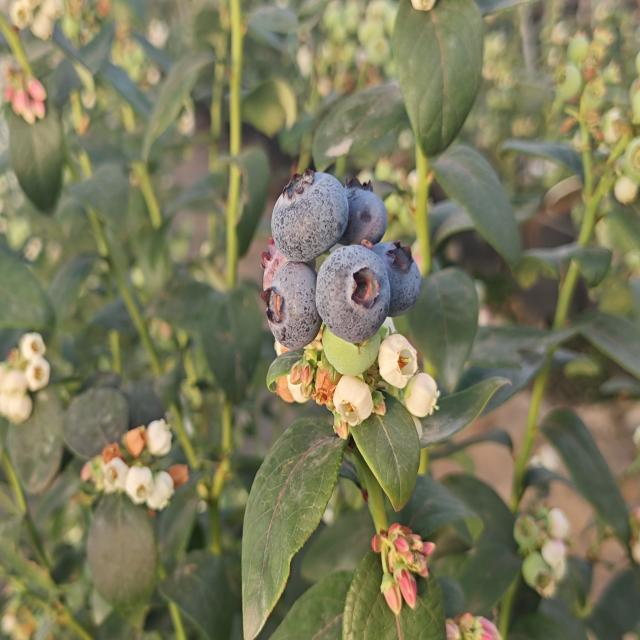ripe: (302, 237, 384, 347), (262, 170, 345, 253), (256, 253, 324, 354), (368, 231, 422, 305), (346, 170, 394, 241)
